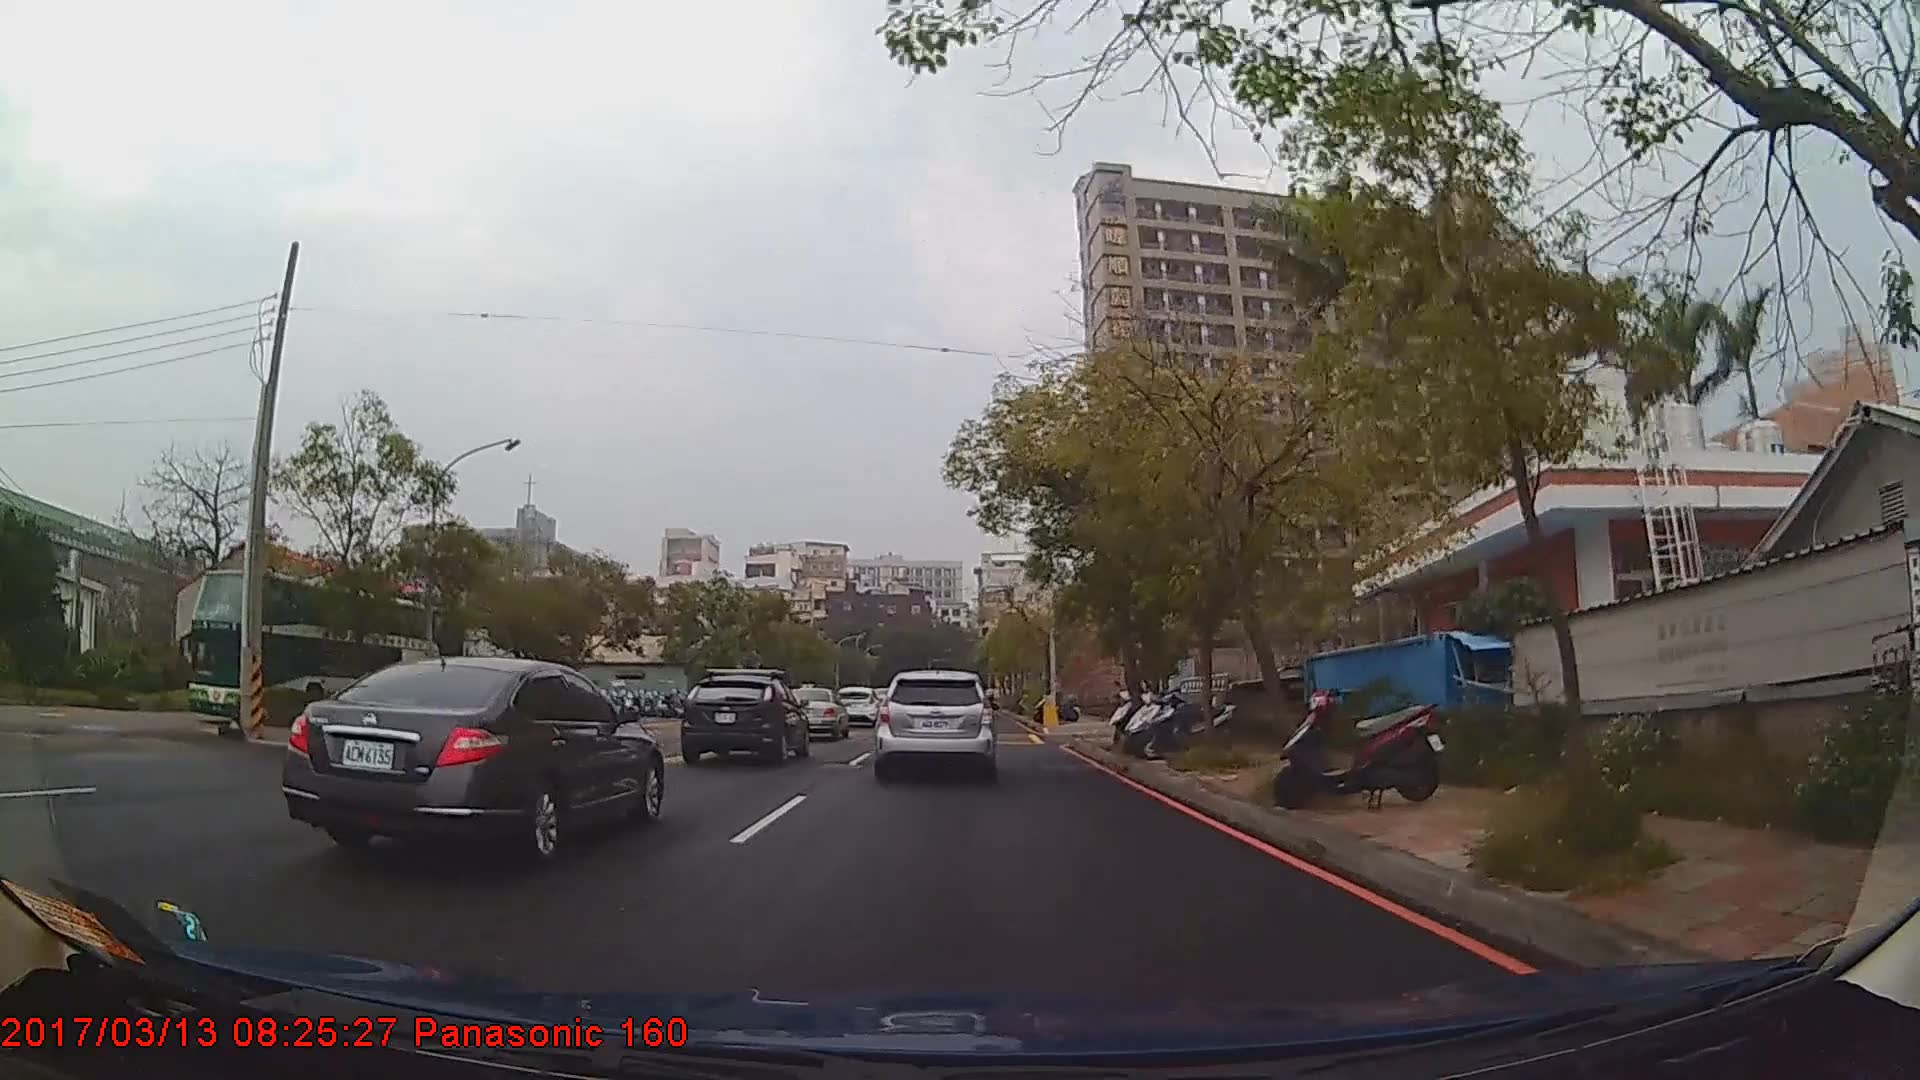vehicle: (281, 653, 665, 862), (185, 568, 436, 733), (876, 666, 996, 778), (678, 670, 808, 767), (785, 684, 848, 738), (833, 684, 880, 727)
